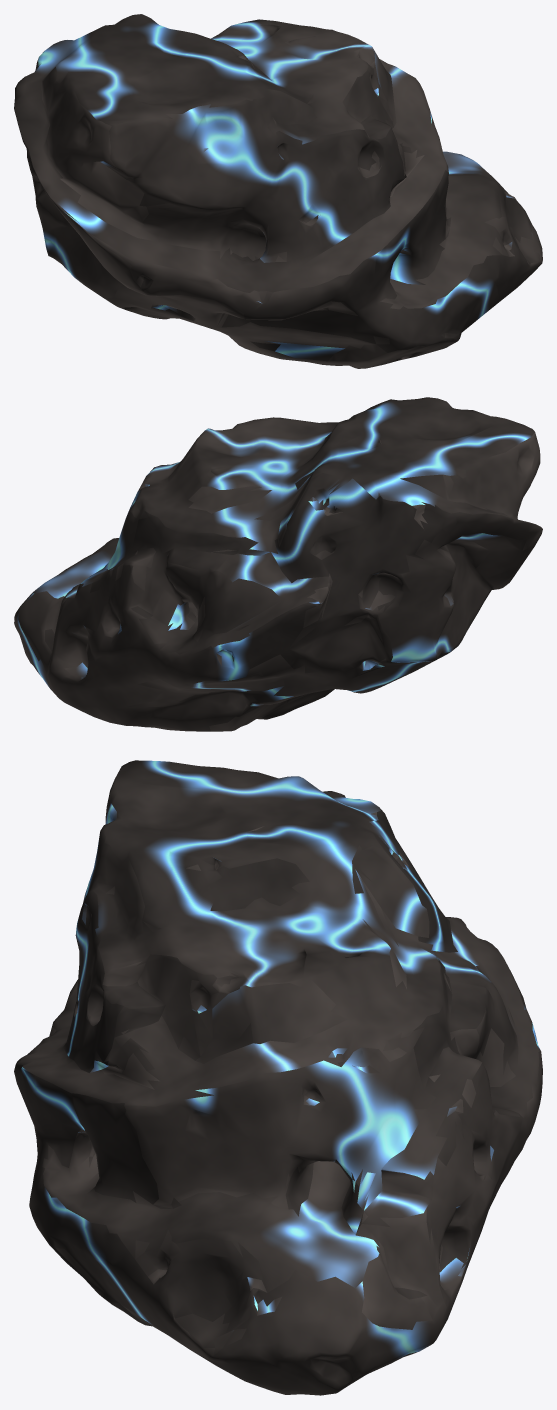
Rendered from meteor.glb.
3 renders of one model, top to bottom at view 1: azimuth 30°, elevation 25°; view 2: azimuth 150°, elevation 25°; view 3: azimuth 270°, elevation 25°, orthographic. The views are drawn at different scales.
Parts seen in each view (by area): view 1: FortniteMeteorHiRes; view 2: FortniteMeteorHiRes; view 3: FortniteMeteorHiRes.
Part boxes in pixels (x1,y1,x2,y2): FortniteMeteorHiRes: (14, 14, 542, 368); FortniteMeteorHiRes: (14, 397, 542, 731); FortniteMeteorHiRes: (14, 760, 542, 1395).
Bounding box in the file's own units: 1 × 0.5979 × 0.7452.
Materials: 1 (1 with a texture image).
